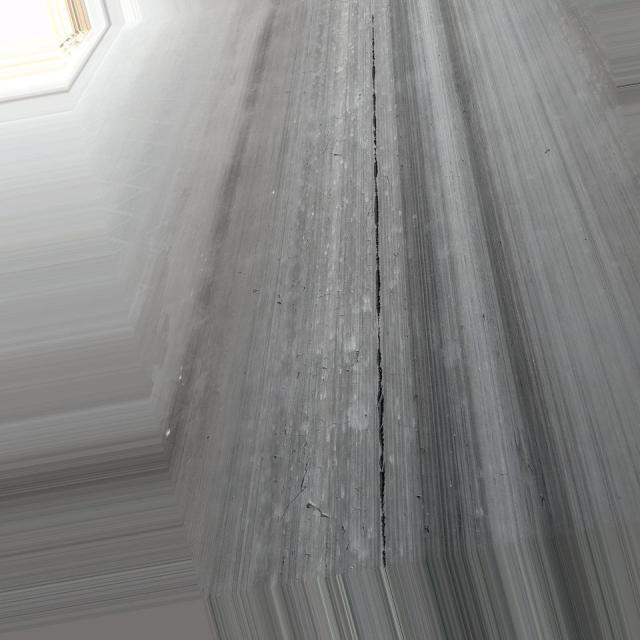Tear: (363, 4, 392, 572)
